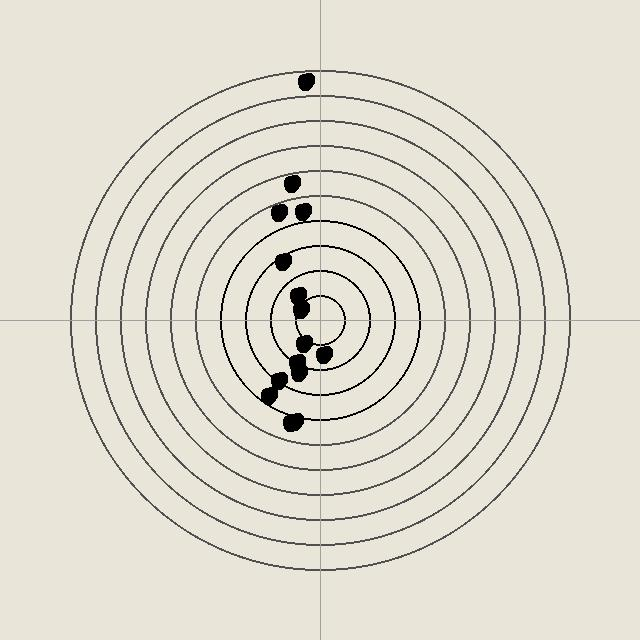vertical_scatter: (295, 71, 315, 91), (272, 251, 292, 271), (284, 411, 304, 431), (292, 201, 312, 221), (290, 299, 310, 319), (288, 362, 308, 382), (287, 285, 307, 305), (258, 385, 278, 405), (281, 173, 301, 193), (313, 344, 333, 364), (280, 412, 300, 432), (268, 370, 288, 390), (293, 333, 313, 353), (286, 352, 306, 372), (268, 202, 288, 222)
